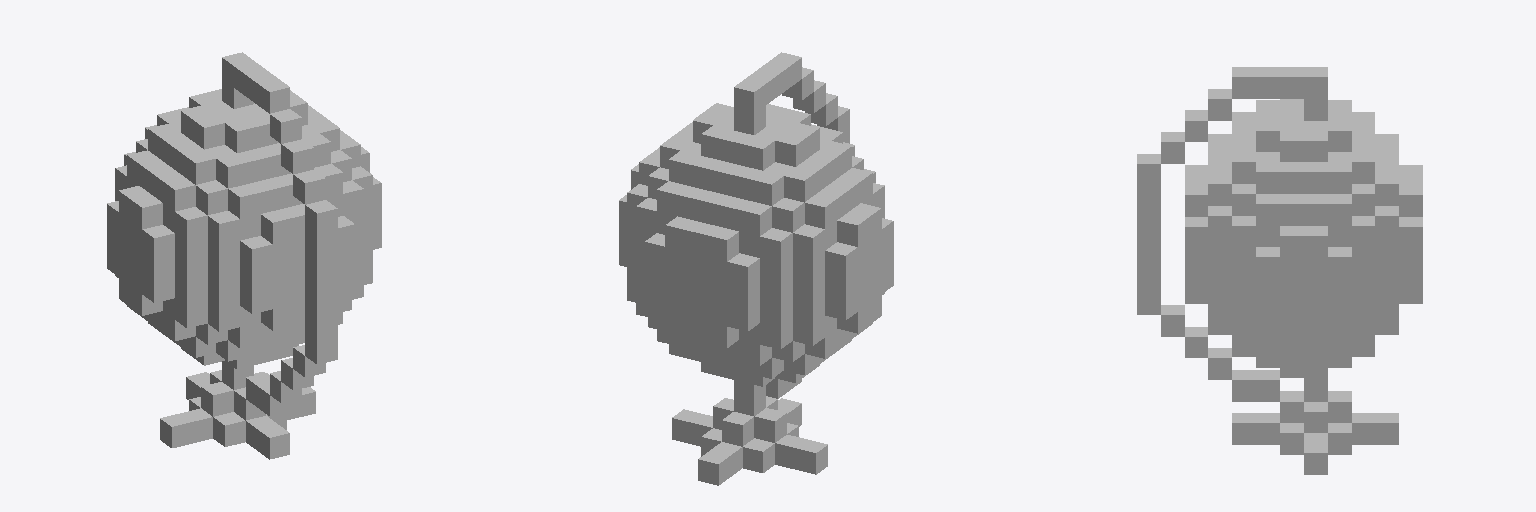
The model's file is ship-2.obj.
3 views of the same model, side by side, from view 1: azimuth 30°, elevation 25°; view 2: azimuth 150°, elevation 25°; view 3: azimuth 270°, elevation 25° (orthographic).
Visible parts, largest first — view 1: object 1; view 2: object 1; view 3: object 1.
Part boxes in pixels (x1,y1,x2,y2): object 1: (107,52,381,459); object 1: (619,52,893,485); object 1: (1137,67,1422,474).
Size of the model in its own units: 1.1 by 1.7 by 1.2.